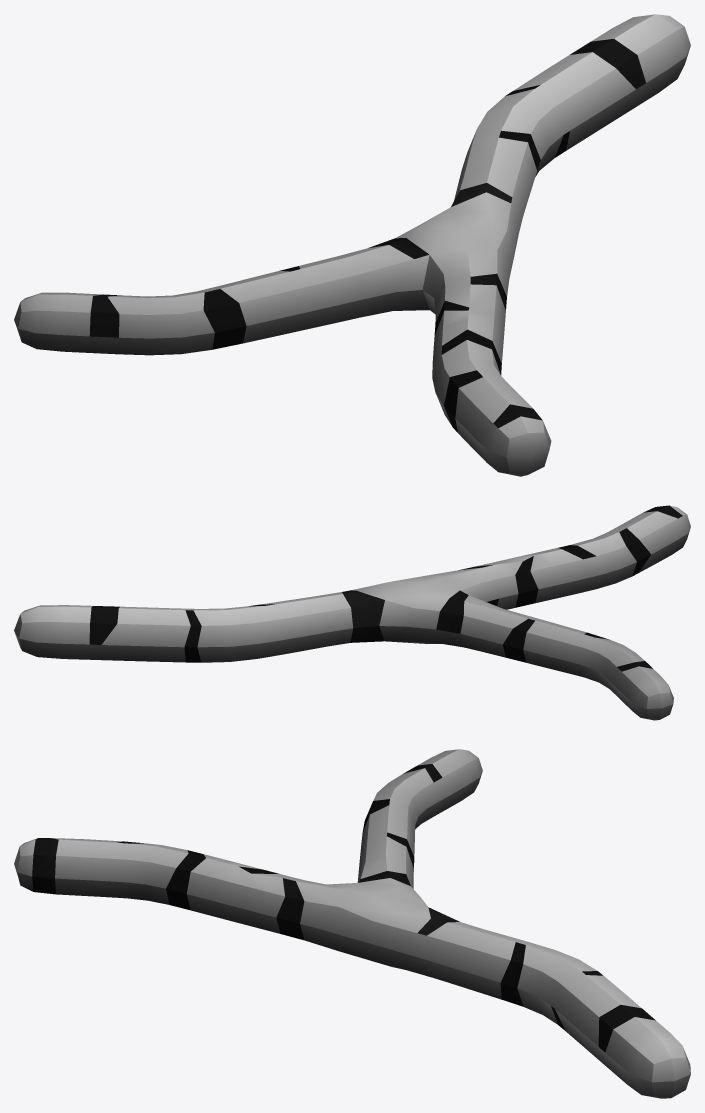
File: birch_branch1.fbx
The picture shows the model from 3 angles, top to bottom: view 1: azimuth 30°, elevation 25°; view 2: azimuth 150°, elevation 25°; view 3: azimuth 270°, elevation 25°; orthographic projection. The views are drawn at different scales.
Parts seen in each view (by area): view 1: birch branch2; view 2: birch branch2; view 3: birch branch2.
Boxes of the visible parts, box(x1,y1,x2,y2) form: birch branch2: box(14, 14, 690, 476); birch branch2: box(14, 505, 690, 720); birch branch2: box(14, 749, 690, 1098).
Bounding box in the file's own units: 383 × 33.6 × 337.
